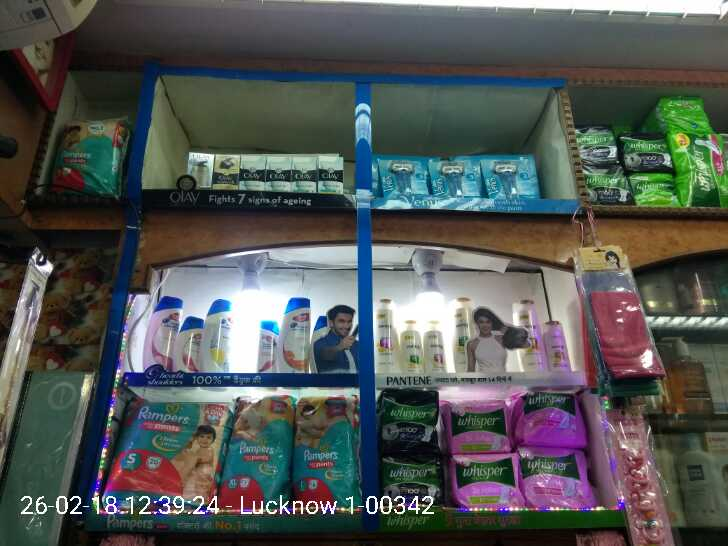venus: (431, 158, 488, 197), (488, 152, 534, 197), (379, 158, 431, 193)
